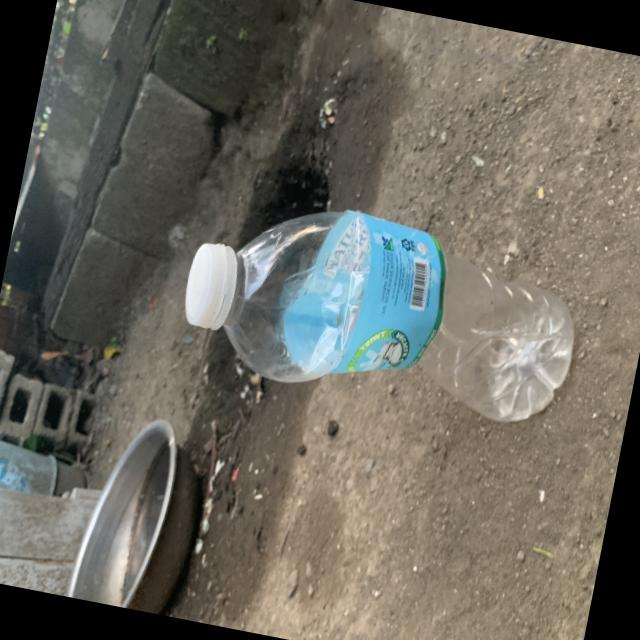Bottle: (185, 210, 573, 421)
